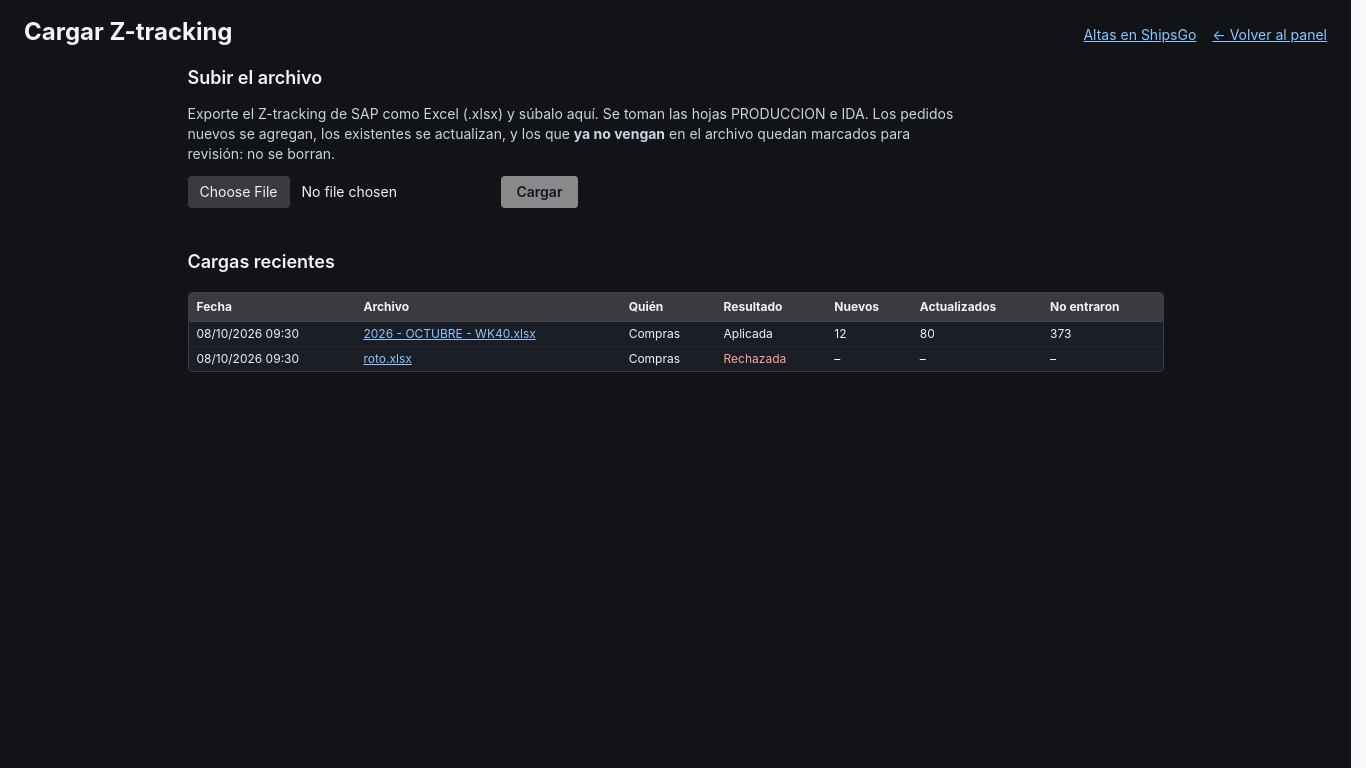
Test: historial › lista las cargas y abre el informe de la que se elige
Expected: the text "Rechazada" is shown, 724,351 -> 786,366
Expected: the text "–" is shown 3 times, 826,346 -> 912,371; 912,346 -> 1042,371; 1042,346 -> 1162,371
Click the button "roto.xlsx" at (388,359), box 364,351 -> 412,367
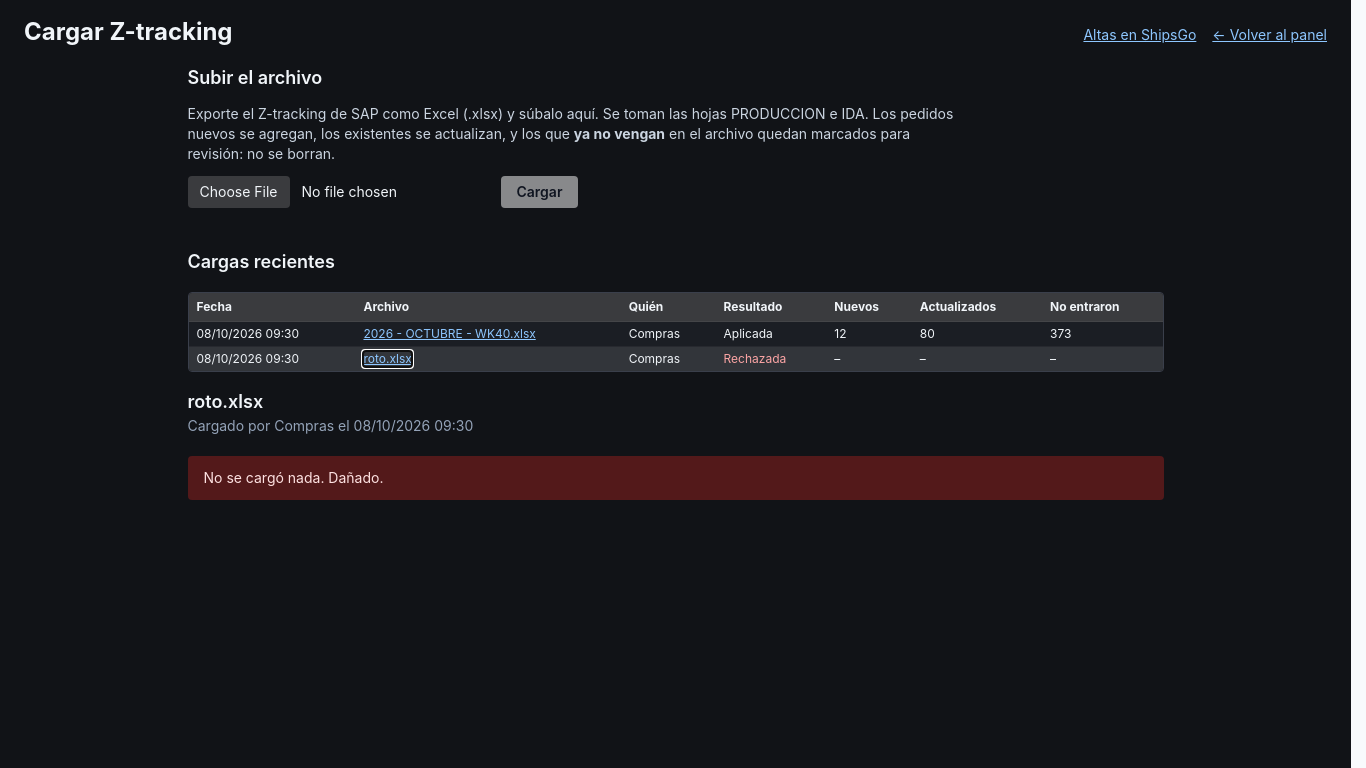
Now the text "No se cargó nada. Dañado." is shown, box 188,456 -> 1164,500
